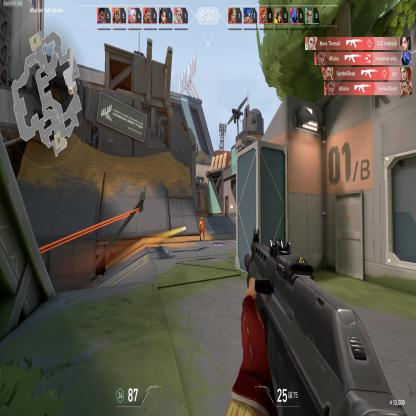enemy: (198, 216, 206, 242)
